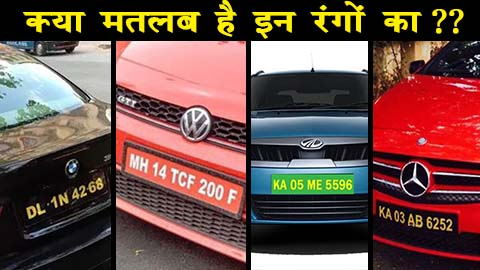number_plate: (122, 138, 245, 223), (25, 175, 106, 221), (376, 199, 460, 236), (269, 171, 356, 198)
